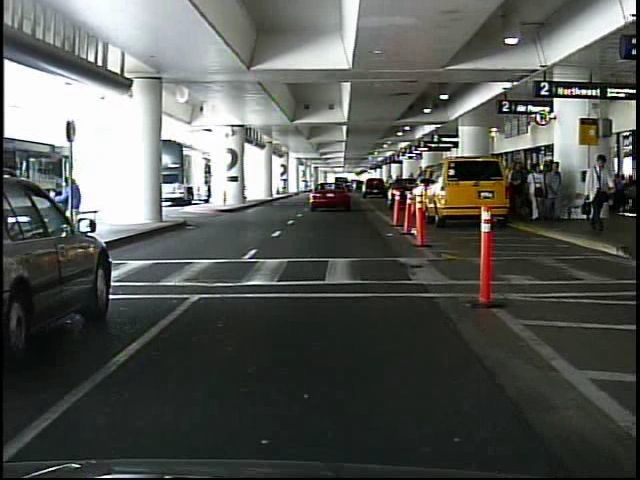person: (580, 154, 616, 233), (543, 160, 565, 222), (528, 161, 546, 224)
